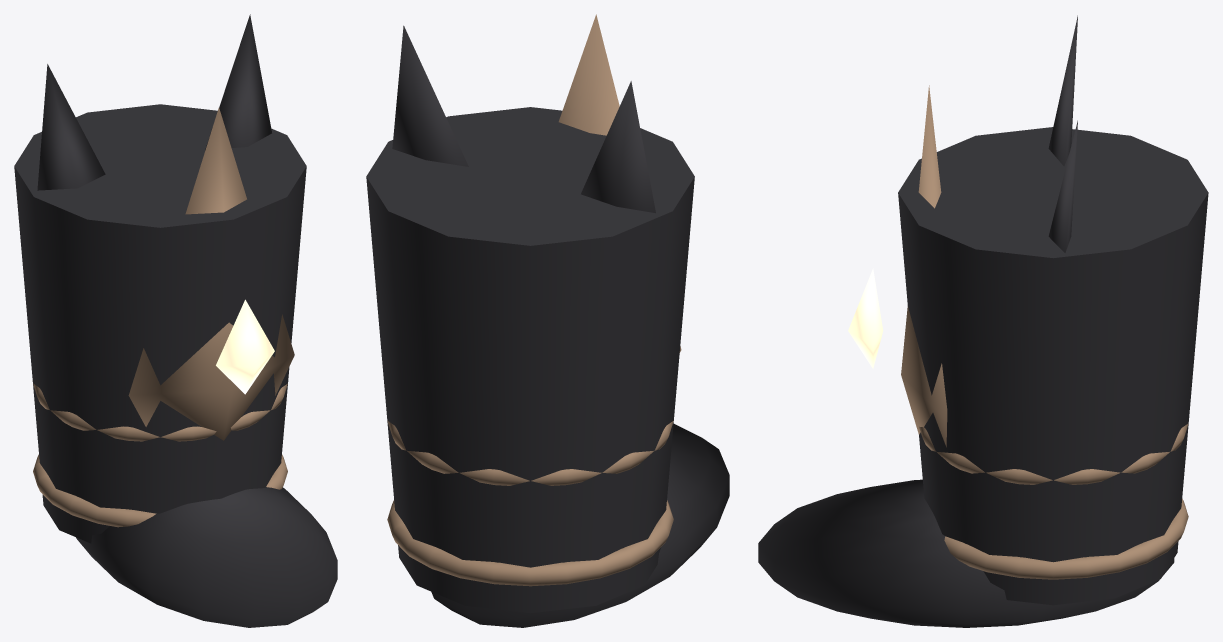
File: boss_ashfall_pilgrim_boots_2.glb
3 renders of one model, left to right at view 1: azimuth 30°, elevation 25°; view 2: azimuth 150°, elevation 25°; view 3: azimuth 270°, elevation 25°, orthographic. The views are drawn at different scales.
Visible parts, largest first — view 1: Boss_ashfall_pilgrim_0, Boss_ashfall_pilgrim_1, Boss_ashfall_pilgrim_2; view 2: Boss_ashfall_pilgrim_0, Boss_ashfall_pilgrim_1; view 3: Boss_ashfall_pilgrim_0, Boss_ashfall_pilgrim_1, Boss_ashfall_pilgrim_2.
Boxes of the visible parts, x1,y1,x2,y2 form: Boss_ashfall_pilgrim_0: [14, 14, 337, 627]; Boss_ashfall_pilgrim_1: [33, 108, 294, 527]; Boss_ashfall_pilgrim_2: [216, 299, 274, 394]; Boss_ashfall_pilgrim_0: [366, 25, 729, 627]; Boss_ashfall_pilgrim_1: [387, 14, 681, 586]; Boss_ashfall_pilgrim_0: [758, 15, 1208, 627]; Boss_ashfall_pilgrim_1: [901, 85, 1188, 579]; Boss_ashfall_pilgrim_2: [848, 268, 883, 368].
Bounding box in the file's own units: 0.25 × 0.482 × 0.3624.
